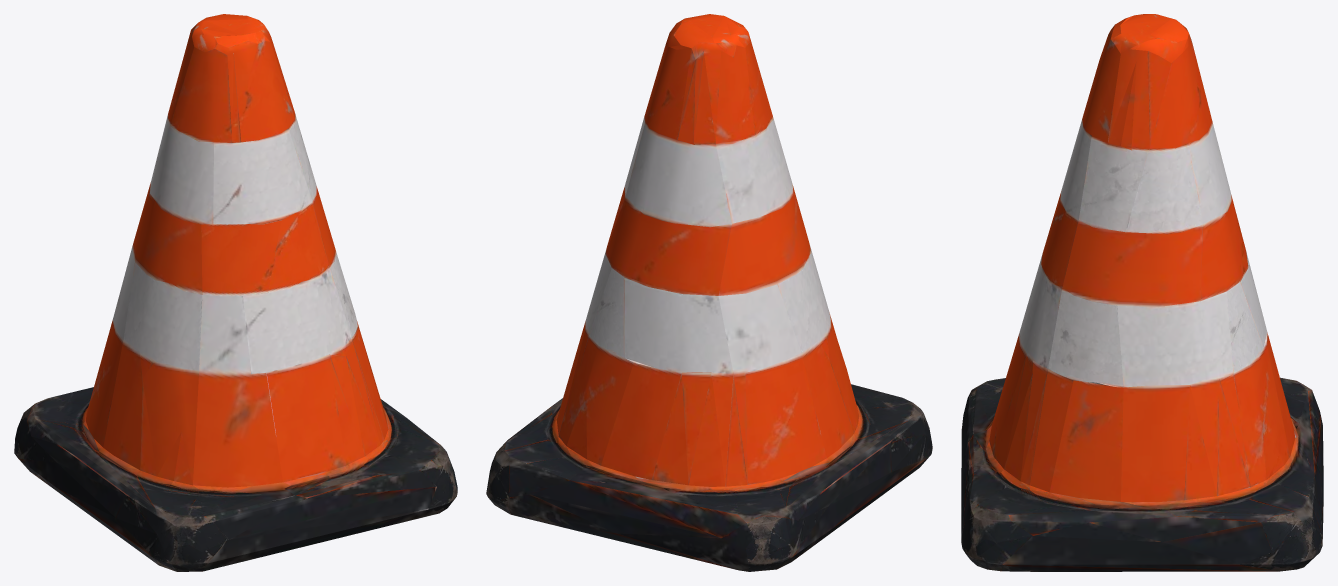
The model's file is traffic-cone.glb.
3 views of the same model, side by side, from view 1: azimuth 30°, elevation 25°; view 2: azimuth 150°, elevation 25°; view 3: azimuth 270°, elevation 25° (orthographic). The views are drawn at different scales.
Size of the model in its own units: 0.4845 by 0.7 by 0.4868.
1 material, 1 textured.
